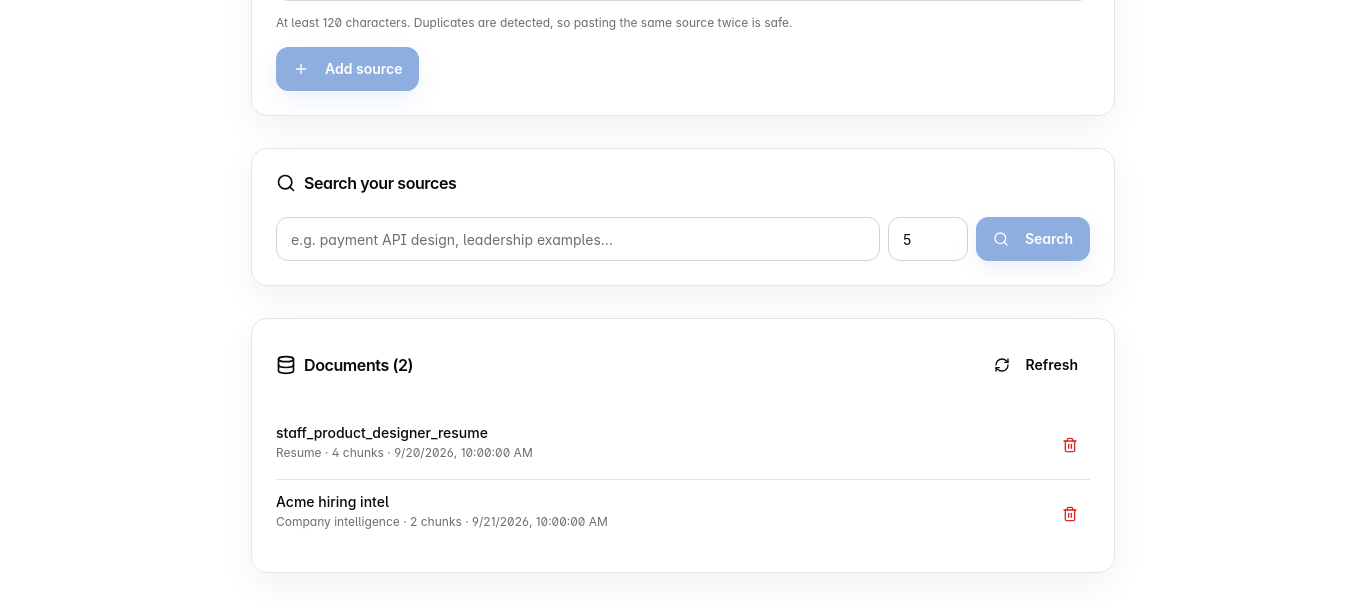
Test case: KnowledgePanel › confirms in the app rather than with a native confirm
This screenshot has width=1366, height=605.
(page scrolled)
Expected: the text "staff_product_designer_resume" is shown, [276,424,488,441]
Click the button named "delete staff_product_designer_resume": (1070, 445) [1050,423,1090,467]
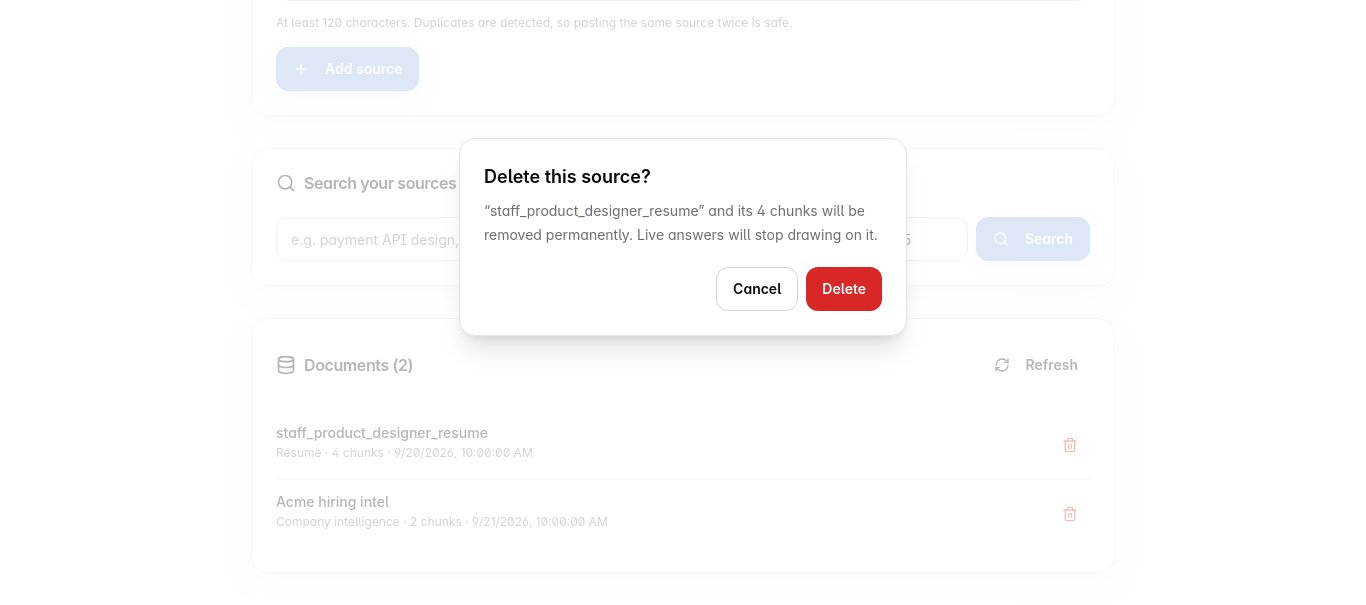
Result: the dialog is shown at [459,138,907,336]
